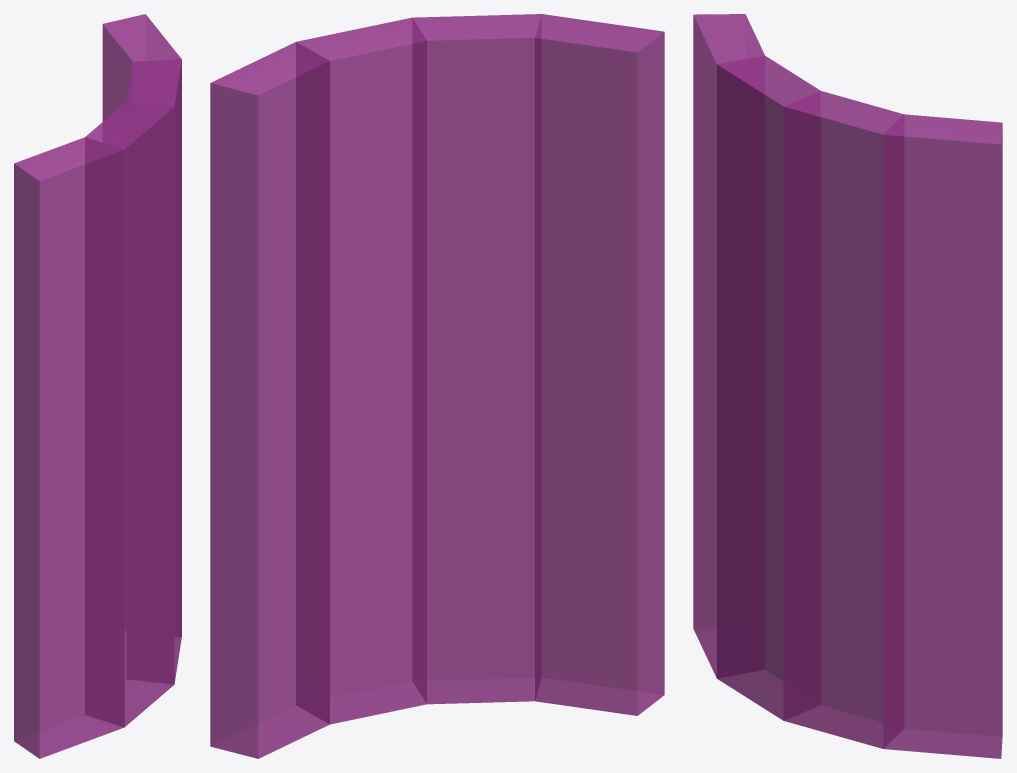
Rendered from SM_Bld_Wall_Fort_Top_Straight_Round_01_Collision.fbx.
The picture shows the model from 3 angles, left to right: view 1: azimuth 30°, elevation 25°; view 2: azimuth 150°, elevation 25°; view 3: azimuth 270°, elevation 25°; orthographic projection. The views are drawn at different scales.
Visible parts, largest first — view 1: SM_Bld_Wall_Fort_Top_Straight_Round_01_Collision; view 2: SM_Bld_Wall_Fort_Top_Straight_Round_01_Collision; view 3: SM_Bld_Wall_Fort_Top_Straight_Round_01_Collision.
Part boxes in pixels (x1=…): SM_Bld_Wall_Fort_Top_Straight_Round_01_Collision: x1=14, y1=14, x2=181, y2=758; SM_Bld_Wall_Fort_Top_Straight_Round_01_Collision: x1=210, y1=14, x2=664, y2=758; SM_Bld_Wall_Fort_Top_Straight_Round_01_Collision: x1=693, y1=14, x2=1002, y2=758.
Bounding box in the file's own units: 276 × 605 × 276.
